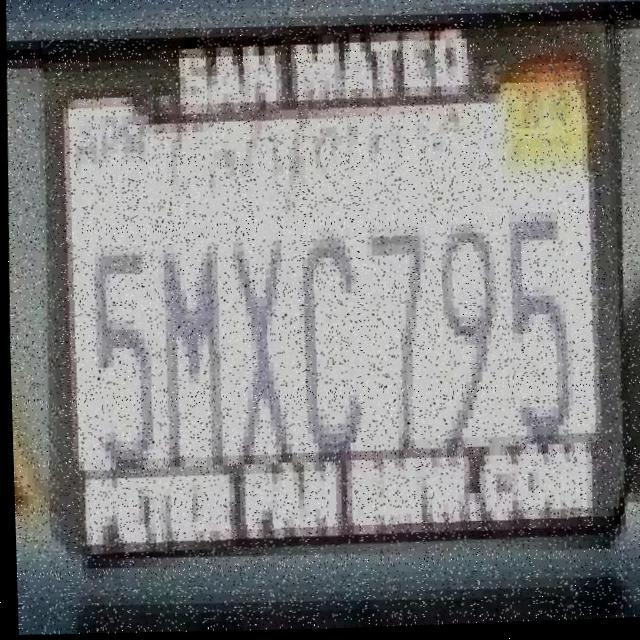LicensePlate: (35, 21, 631, 568)
